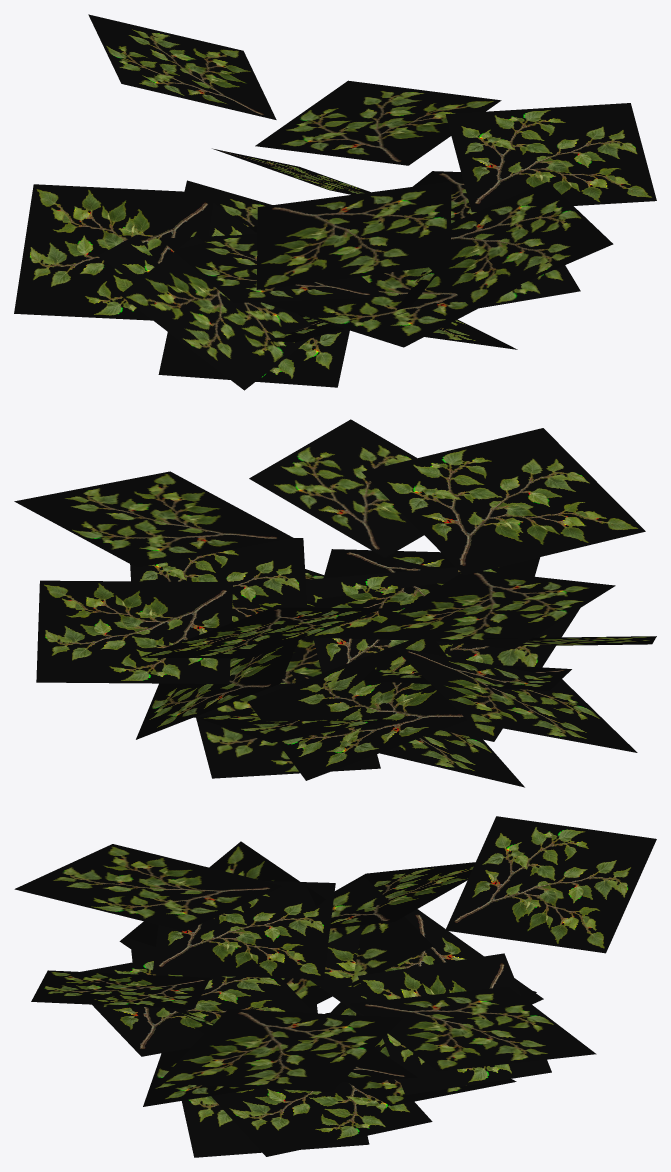
The model's file is low_scrub_far.gltf.
3 views of the same model, one above another, from view 1: azimuth 30°, elevation 25°; view 2: azimuth 150°, elevation 25°; view 3: azimuth 270°, elevation 25° (orthographic). The views are drawn at different scales.
Visible parts, largest first — view 1: low_scrub_far; view 2: low_scrub_far; view 3: low_scrub_far.
Boxes of the visible parts, <box> form: low_scrub_far: <box>14,14,656,390</box>; low_scrub_far: <box>14,419,656,787</box>; low_scrub_far: <box>14,816,656,1157</box>.
Size of the model in its own units: 2.68 by 0.929 by 2.46.
1 material, 1 textured.
